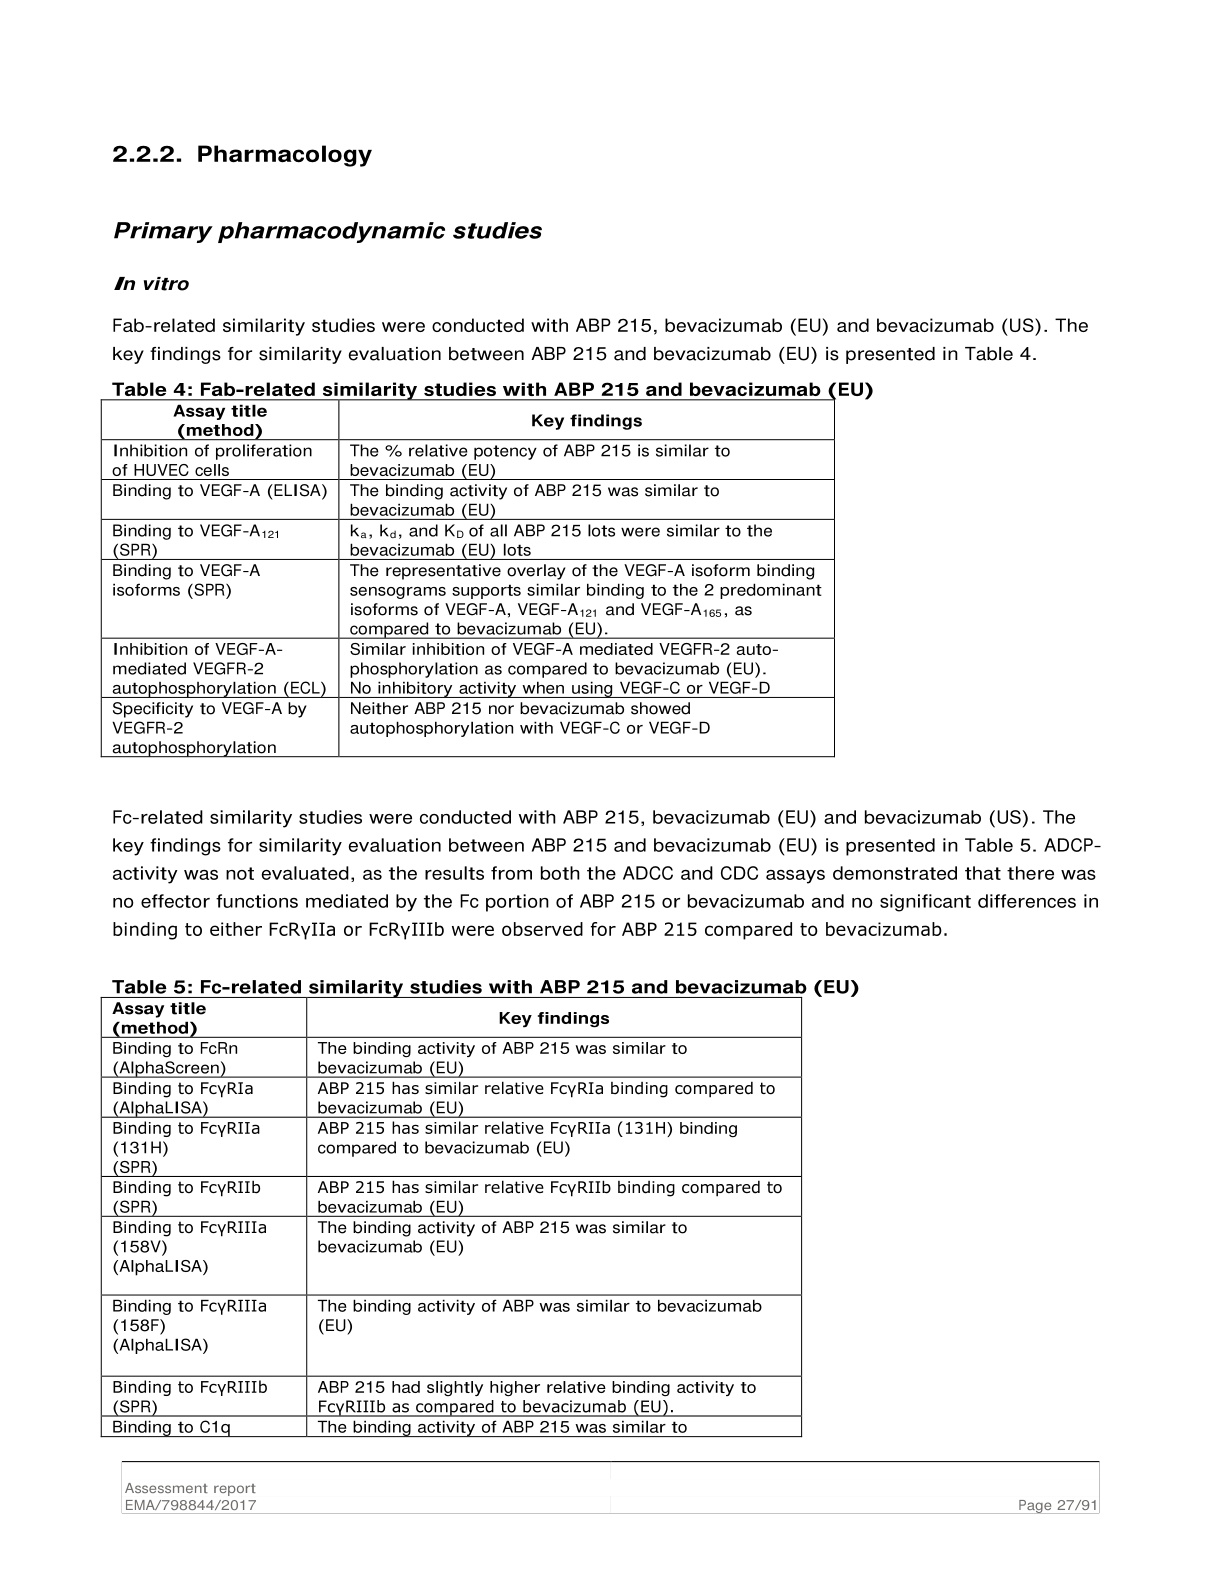full_lined: (100, 996, 804, 1437), (99, 399, 834, 759)
